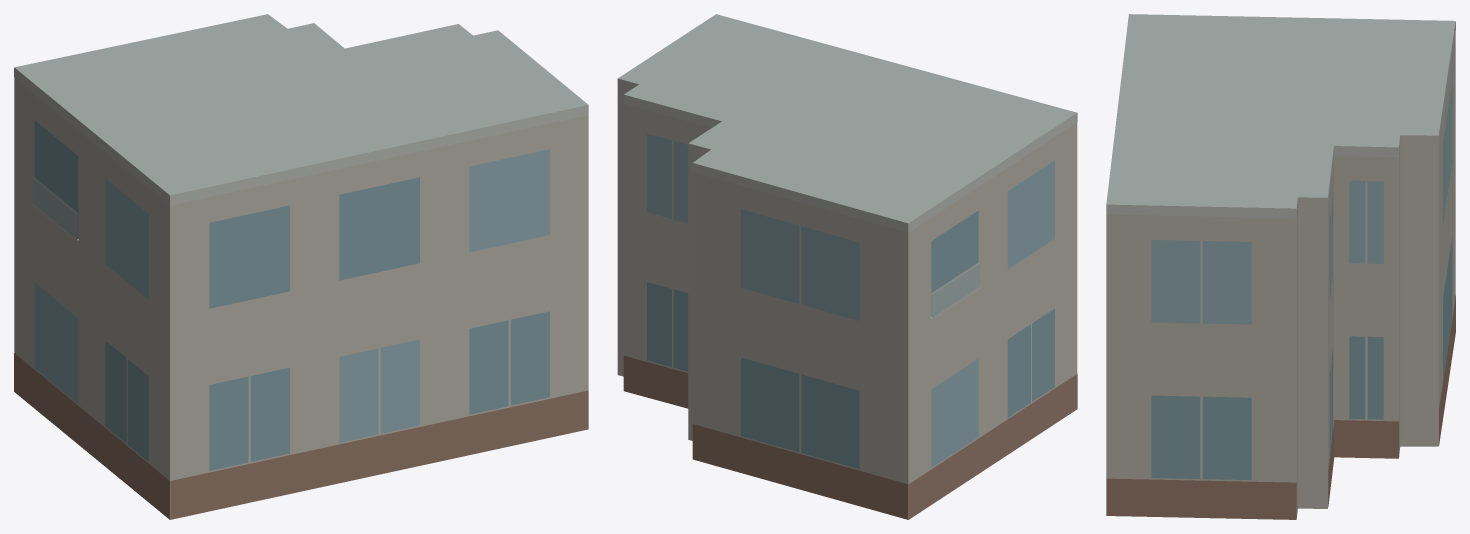
File: survey-upis-32816237.glb
3 views of the same model, side by side, from view 1: azimuth 30°, elevation 25°; view 2: azimuth 150°, elevation 25°; view 3: azimuth 270°, elevation 25° (orthographic). The views are drawn at different scales.
Parts seen in each view (by area): view 1: survey-upis-32816237.tmp; view 2: survey-upis-32816237.tmp; view 3: survey-upis-32816237.tmp.
Part boxes in pixels (left/top/right/bottom): survey-upis-32816237.tmp: left=14, top=14, right=588, bottom=519; survey-upis-32816237.tmp: left=617, top=14, right=1077, bottom=519; survey-upis-32816237.tmp: left=1106, top=14, right=1455, bottom=519.
Size of the model in its own units: 10.47 by 7.8 by 7.95.
